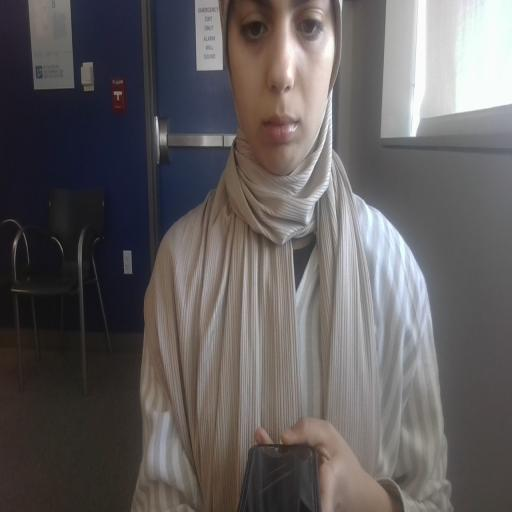objects: (242, 439, 345, 512)
phone: (238, 422, 385, 512)
